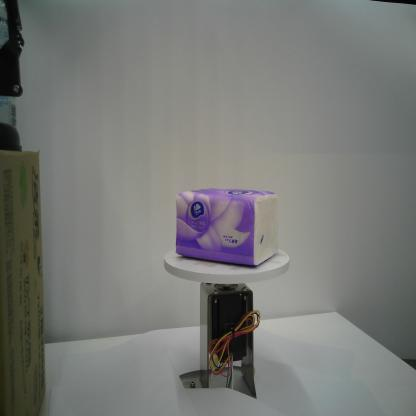Tissue: (169, 182, 280, 270)
